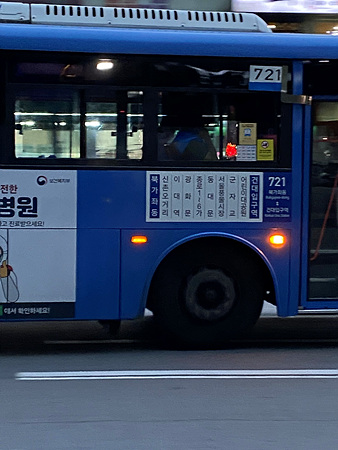entrance: (300, 83, 336, 316)
